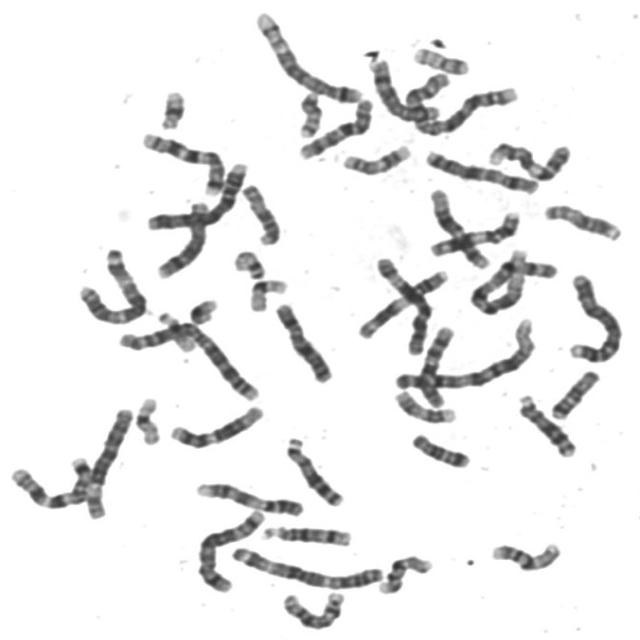A1: (387, 312, 540, 392), (463, 250, 560, 317)
A2: (113, 315, 262, 403), (398, 65, 520, 138)
A3: (222, 540, 384, 591), (70, 242, 151, 326)
B4: (139, 154, 253, 233), (560, 268, 625, 365)
B5: (248, 4, 365, 105), (190, 504, 268, 594)
C10: (292, 92, 376, 161), (413, 320, 456, 409)
C11: (352, 263, 452, 340), (423, 206, 523, 258)
C12: (423, 182, 492, 270), (163, 399, 266, 450)
C6: (78, 402, 136, 520), (375, 256, 436, 356)
C7: (134, 126, 228, 196), (3, 451, 96, 511)
C8: (365, 53, 443, 123), (150, 194, 211, 280)
C9: (189, 476, 306, 518), (481, 136, 573, 182)
D13: (280, 430, 346, 509), (512, 388, 578, 459)
D14: (276, 585, 346, 632), (255, 518, 355, 548)
D15: (538, 198, 625, 242), (236, 178, 283, 246)
E16: (484, 535, 564, 573), (372, 549, 435, 596)
E17: (336, 139, 414, 176), (388, 384, 459, 424)
E18: (544, 364, 602, 421), (404, 427, 472, 470)
F19: (242, 272, 291, 314), (129, 390, 164, 447)
F20: (406, 40, 472, 76), (290, 86, 324, 140)
G21: (152, 84, 188, 132), (182, 292, 220, 326)
G22: (151, 306, 199, 354), (226, 244, 268, 281)
X: (418, 145, 542, 195), (268, 296, 335, 384)
